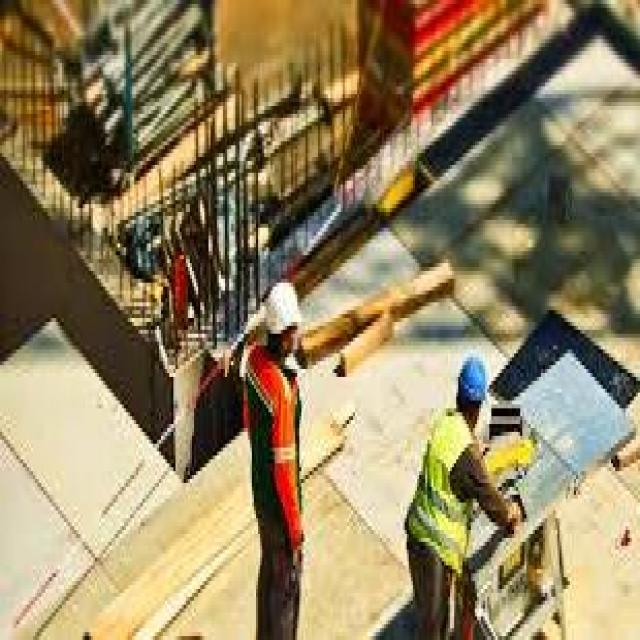Reflective-Jacket: (401, 404, 483, 585), (242, 346, 312, 550)
Safety-Helmet: (448, 342, 498, 420), (258, 271, 310, 345)
